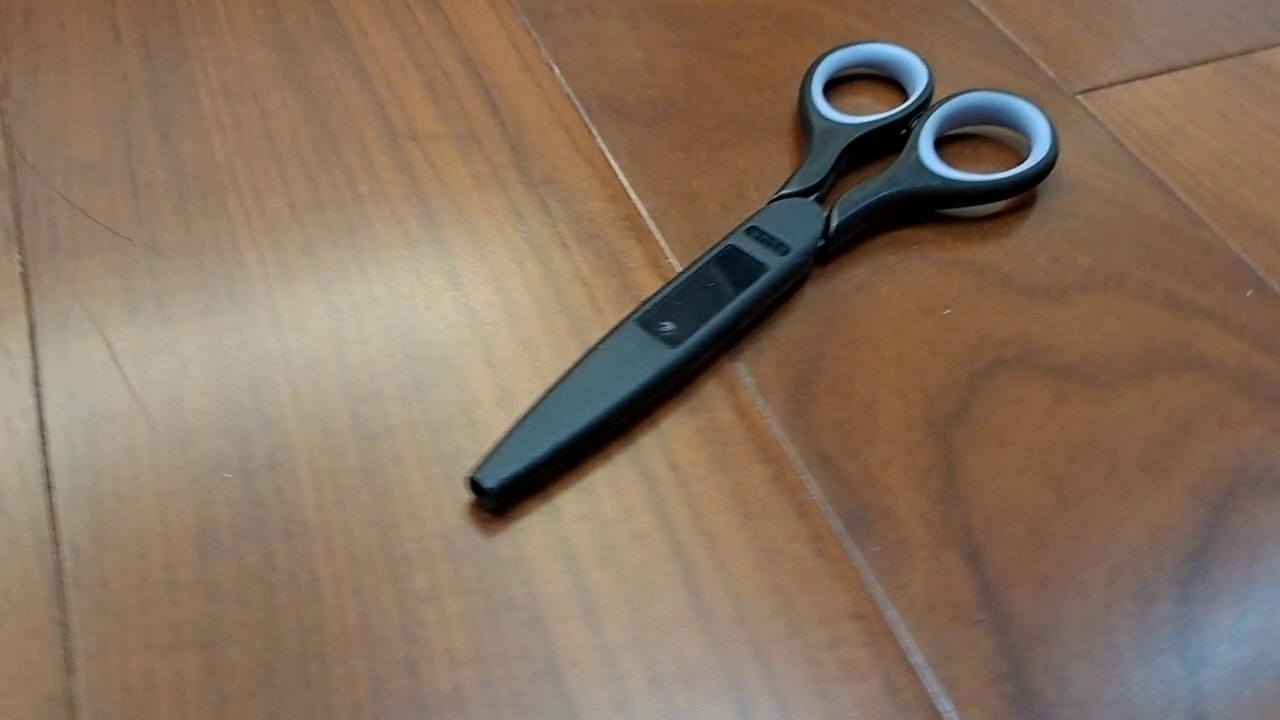scissors: (463, 39, 1059, 518)
